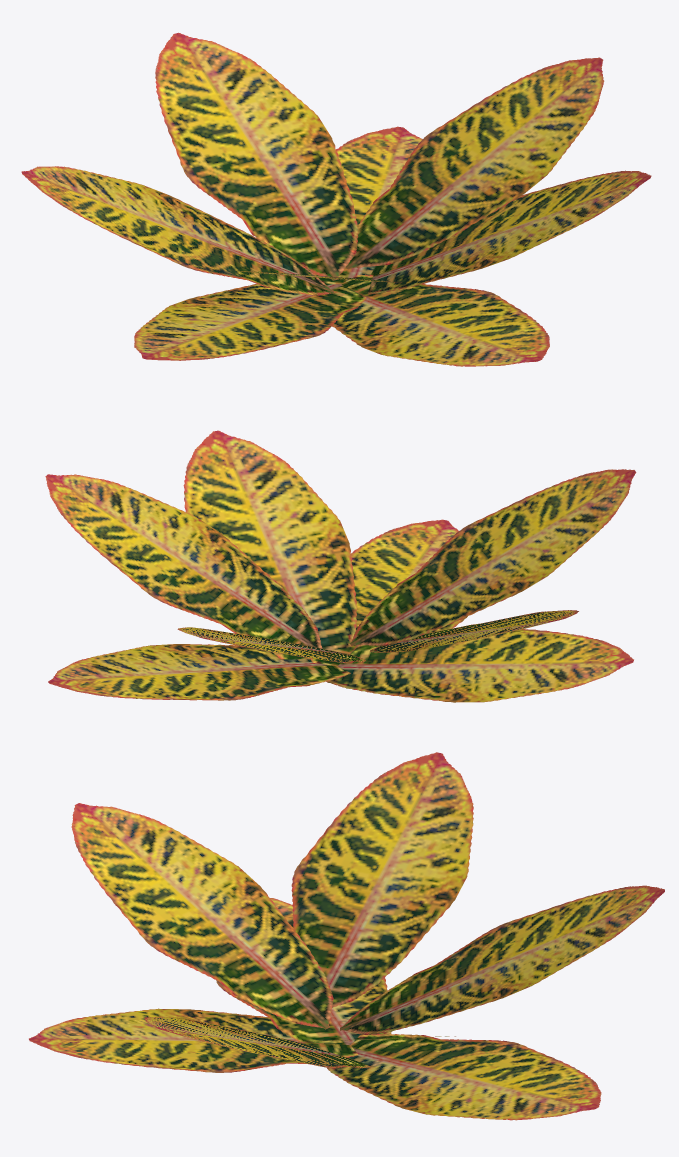
Rendered from plant_tropic_lg.dae.
3 views of the same model, one above another, from view 1: azimuth 30°, elevation 25°; view 2: azimuth 150°, elevation 25°; view 3: azimuth 270°, elevation 25° (orthographic). The views are drawn at different scales.
Visible parts, largest first — view 1: Object47-Pivot; view 2: Object47-Pivot; view 3: Object47-Pivot.
Part boxes in pixels (x1=…): Object47-Pivot: x1=21, y1=32, x2=651, y2=366; Object47-Pivot: x1=45, y1=430, x2=636, y2=702; Object47-Pivot: x1=29, y1=752, x2=664, y2=1120.
Size of the model in its own units: 4.65 by 4.27 by 1.19.
